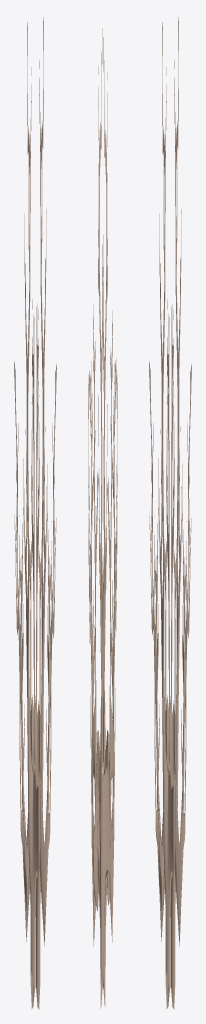
Rendered from Lightning.fbx.
The picture shows the model from 3 angles, left to right: view 1: azimuth 90°, elevation 25°; view 2: azimuth 150°, elevation 25°; view 3: azimuth 270°, elevation 25°; orthographic projection.
Visible parts, largest first — view 1: LeaflessTree_LeaflessTree2; view 2: LeaflessTree_LeaflessTree2; view 3: LeaflessTree_LeaflessTree2.
Part boxes in pixels (<box>): LeaflessTree_LeaflessTree2: <box>14,17,56,1009</box>; LeaflessTree_LeaflessTree2: <box>88,29,117,1008</box>; LeaflessTree_LeaflessTree2: <box>149,17,191,1009</box>.
Bounding box in the file's own units: 14.43 × 645 × 25.21.
